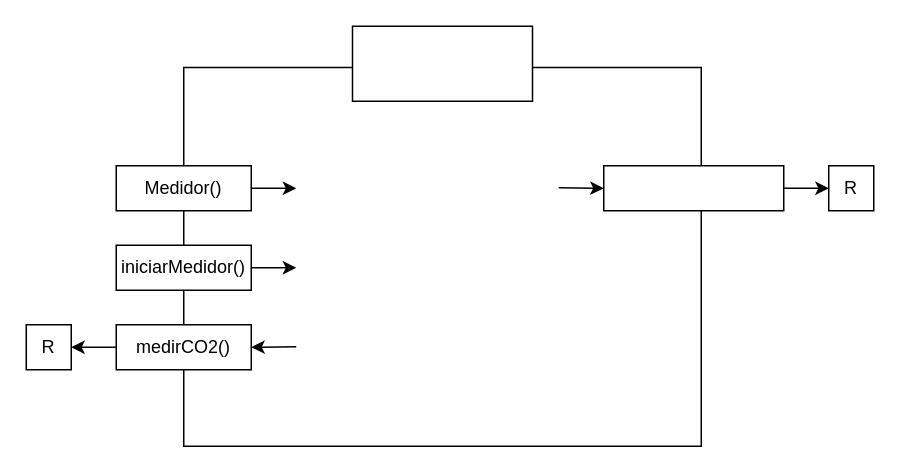
This 900x473 diagram has some shape labels left out. The centre of each missing label's shape, as x and y in pixels:
Medidor: point (441, 63)
medirTemperatura(): point (693, 187)
